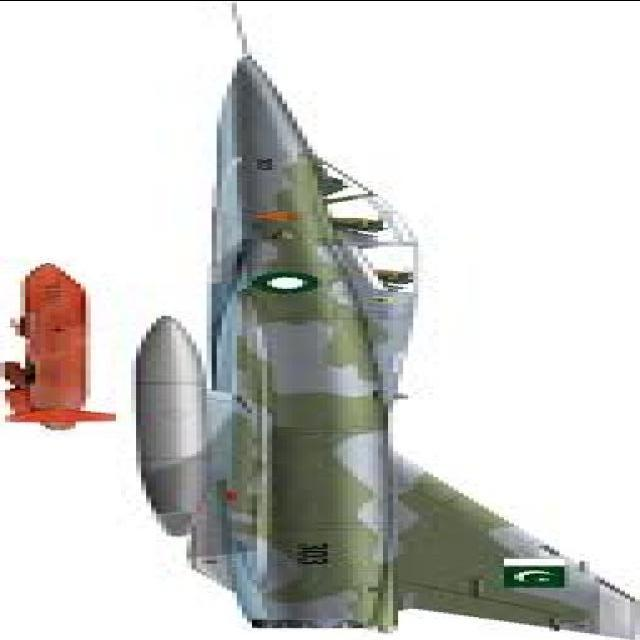Missile: (125, 313, 218, 537)
